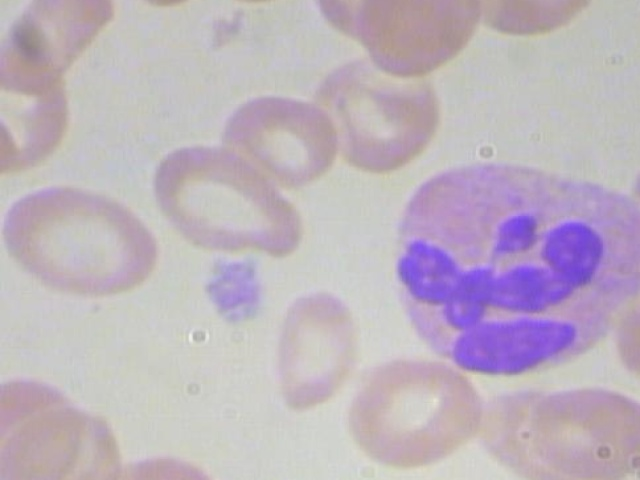Platelets: (190, 257, 274, 335), (0, 0, 16, 6)
RBC: (147, 136, 317, 259), (144, 139, 314, 261), (283, 51, 453, 173), (0, 183, 162, 305), (342, 345, 484, 473), (266, 285, 361, 409), (518, 383, 640, 479), (341, 0, 483, 81), (222, 93, 335, 190), (0, 0, 114, 90), (609, 271, 640, 387), (612, 386, 640, 480), (0, 100, 27, 185)
WBC: (381, 146, 640, 385)
